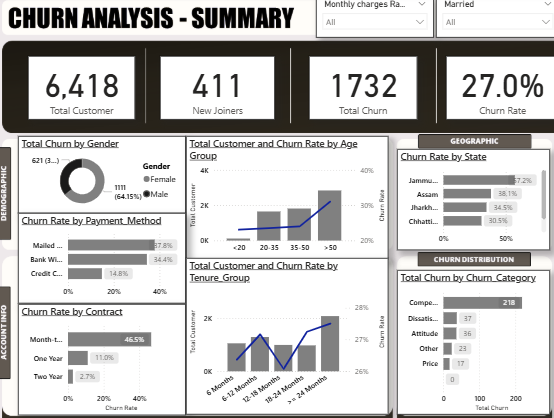

Layout of this report page (visuals, bound fields, positions):
{"tool":"powerbi","page":{"name":"Chrun Summary","canvas":[1280,720],"ordinal":0},"visuals":[{"type":"card","fields":{"Values":["tbl_Measure.Total Customer"]},"box":[55,100,180,106.7],"z":0},{"type":"card","fields":{"Values":["tbl_Measure.New Joiners"]},"box":[276.7,100,193.3,106.7],"z":1000},{"type":"card","fields":{"Values":["tbl_Measure.Total Churn"]},"box":[526.7,100,181.7,106.7],"z":2000},{"type":"card","fields":{"Values":["tbl_Measure.Churn Rate"]},"box":[758.3,100,190,106.7],"z":3000},{"type":"donutChart","fields":{"Category":["db_chrun prod_churn.Gender"],"Y":["tbl_Measure.Total Churn"]},"box":[38.3,235,281.7,130],"z":4000},{"type":"lineStackedColumnComboChart","fields":{"Category":["mapping_Table.Age Group "],"Y":["tbl_Measure.Total Customer"],"Y2":["tbl_Measure.Churn Rate"]},"box":[320,235,340,206.7],"z":5000},{"type":"clusteredBarChart","fields":{"Y":["tbl_Measure.Churn Rate"],"Category":["db_chrun prod_churn.Payment_Method"]},"box":[38.3,365,281.7,151.7],"z":6000},{"type":"clusteredBarChart","fields":{"Y":["tbl_Measure.Churn Rate"],"Category":["db_chrun prod_churn.Contract"]},"box":[38.3,516.7,281.7,186.7],"z":7000},{"type":"lineStackedColumnComboChart","fields":{"Y":["tbl_Measure.Total Customer"],"Y2":["tbl_Measure.Churn Rate"],"Category":["Tenure_Grouping.Tenure_Group"]},"box":[320,440,340,263.3],"z":8000},{"type":"clusteredBarChart","fields":{"Category":["db_chrun prod_churn.State"],"Y":["tbl_Measure.Churn Rate"]},"box":[675,256.7,256.7,170],"z":9000},{"type":"clusteredBarChart","fields":{"Y":["tbl_Measure.Total Churn"],"Category":["db_chrun prod_churn.Churn_Category"]},"box":[675,460,256.7,243.3],"z":10000},{"type":"clusteredBarChart","fields":{"Y":["tbl_Measure.Churn Rate"],"Category":["db_chrun prod_churn.Internet_Type"]},"box":[948.3,256.7,315,185],"z":11000},{"type":"pivotTable","fields":{"Rows":["Prod_churn.Services"],"Columns":["Prod_churn.Status"],"Values":["Sum(Prod_churn.Chrun status)"]},"box":[961.7,460,301.7,243.3],"z":12000},{"type":"slicer","fields":{"Values":["Prod_churn.Monthly charges"]},"box":[540,0,198.3,70],"z":13000},{"type":"slicer","fields":{"Values":["Prod_churn.Married"]},"box":[740,0,208.3,70],"z":14000},{"type":"shape","box":[1004.5,11.8,260.4,58.8],"z":14001}]}

Visuals, with their boxes on the page's 1280x720 design canvas (x1, y1, x2, y2). These are canvas units, not pixel positions in the 554x418 screenshot, which may show the page scaled, cropped or inside an application window:
card - tbl_Measure.Total Customer: locate(55, 100, 235, 207)
card - tbl_Measure.New Joiners: locate(277, 100, 470, 207)
card - tbl_Measure.Total Churn: locate(527, 100, 708, 207)
card - tbl_Measure.Churn Rate: locate(758, 100, 948, 207)
donutChart - db_chrun prod_churn.Gender x tbl_Measure.Total Churn: locate(38, 235, 320, 365)
lineStackedColumnComboChart - mapping_Table.Age Group  x tbl_Measure.Total Customer: locate(320, 235, 660, 442)
clusteredBarChart - tbl_Measure.Churn Rate x db_chrun prod_churn.Payment_Method: locate(38, 365, 320, 517)
clusteredBarChart - tbl_Measure.Churn Rate x db_chrun prod_churn.Contract: locate(38, 517, 320, 703)
lineStackedColumnComboChart - tbl_Measure.Total Customer x tbl_Measure.Churn Rate: locate(320, 440, 660, 703)
clusteredBarChart - db_chrun prod_churn.State x tbl_Measure.Churn Rate: locate(675, 257, 932, 427)
clusteredBarChart - tbl_Measure.Total Churn x db_chrun prod_churn.Churn_Category: locate(675, 460, 932, 703)
clusteredBarChart - tbl_Measure.Churn Rate x db_chrun prod_churn.Internet_Type: locate(948, 257, 1263, 442)
pivotTable - Prod_churn.Services x Prod_churn.Status: locate(962, 460, 1263, 703)
slicer - Prod_churn.Monthly charges: locate(540, 0, 738, 70)
slicer - Prod_churn.Married: locate(740, 0, 948, 70)
shape: locate(1004, 12, 1265, 71)
